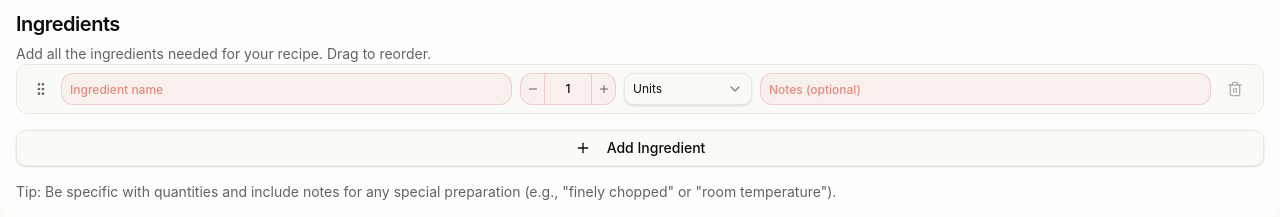
Test: IngredientsStep › Quantity input smart stepping › should increment quantity by 1 for large values
Note: Set initial value to 100
Replace the text in the number field named "ingredient 1 quantity" with "100" at (568, 89), box x1=545 y1=81 x2=591 y2=97
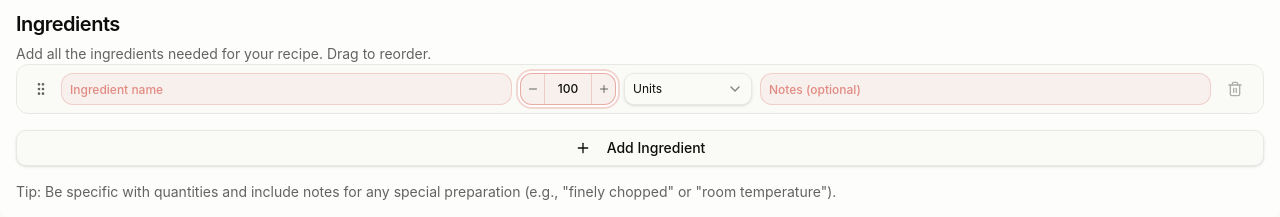
Click the button named "Increase quantity" at (603, 89), box x1=591 y1=74 x2=615 y2=104
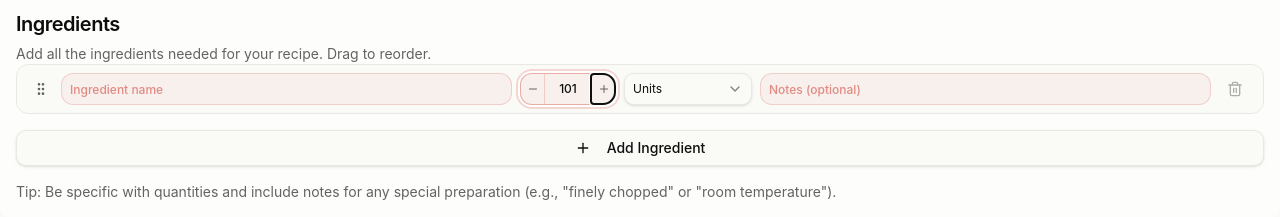
Check: the number field named "ingredient 1 quantity" holds "101", box x1=545 y1=81 x2=591 y2=97
